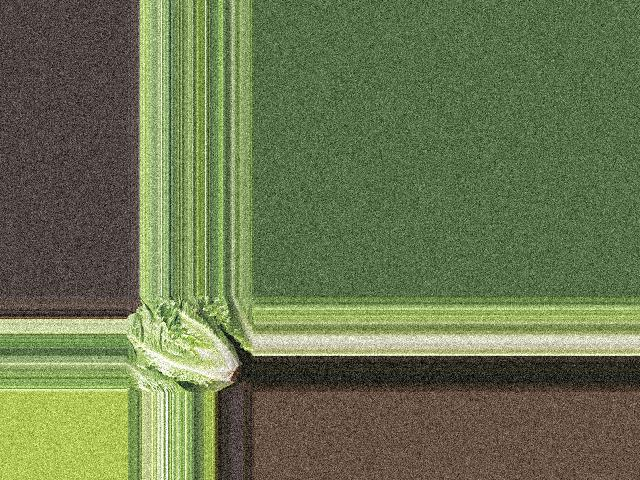lettuce: (128, 302, 247, 393)
